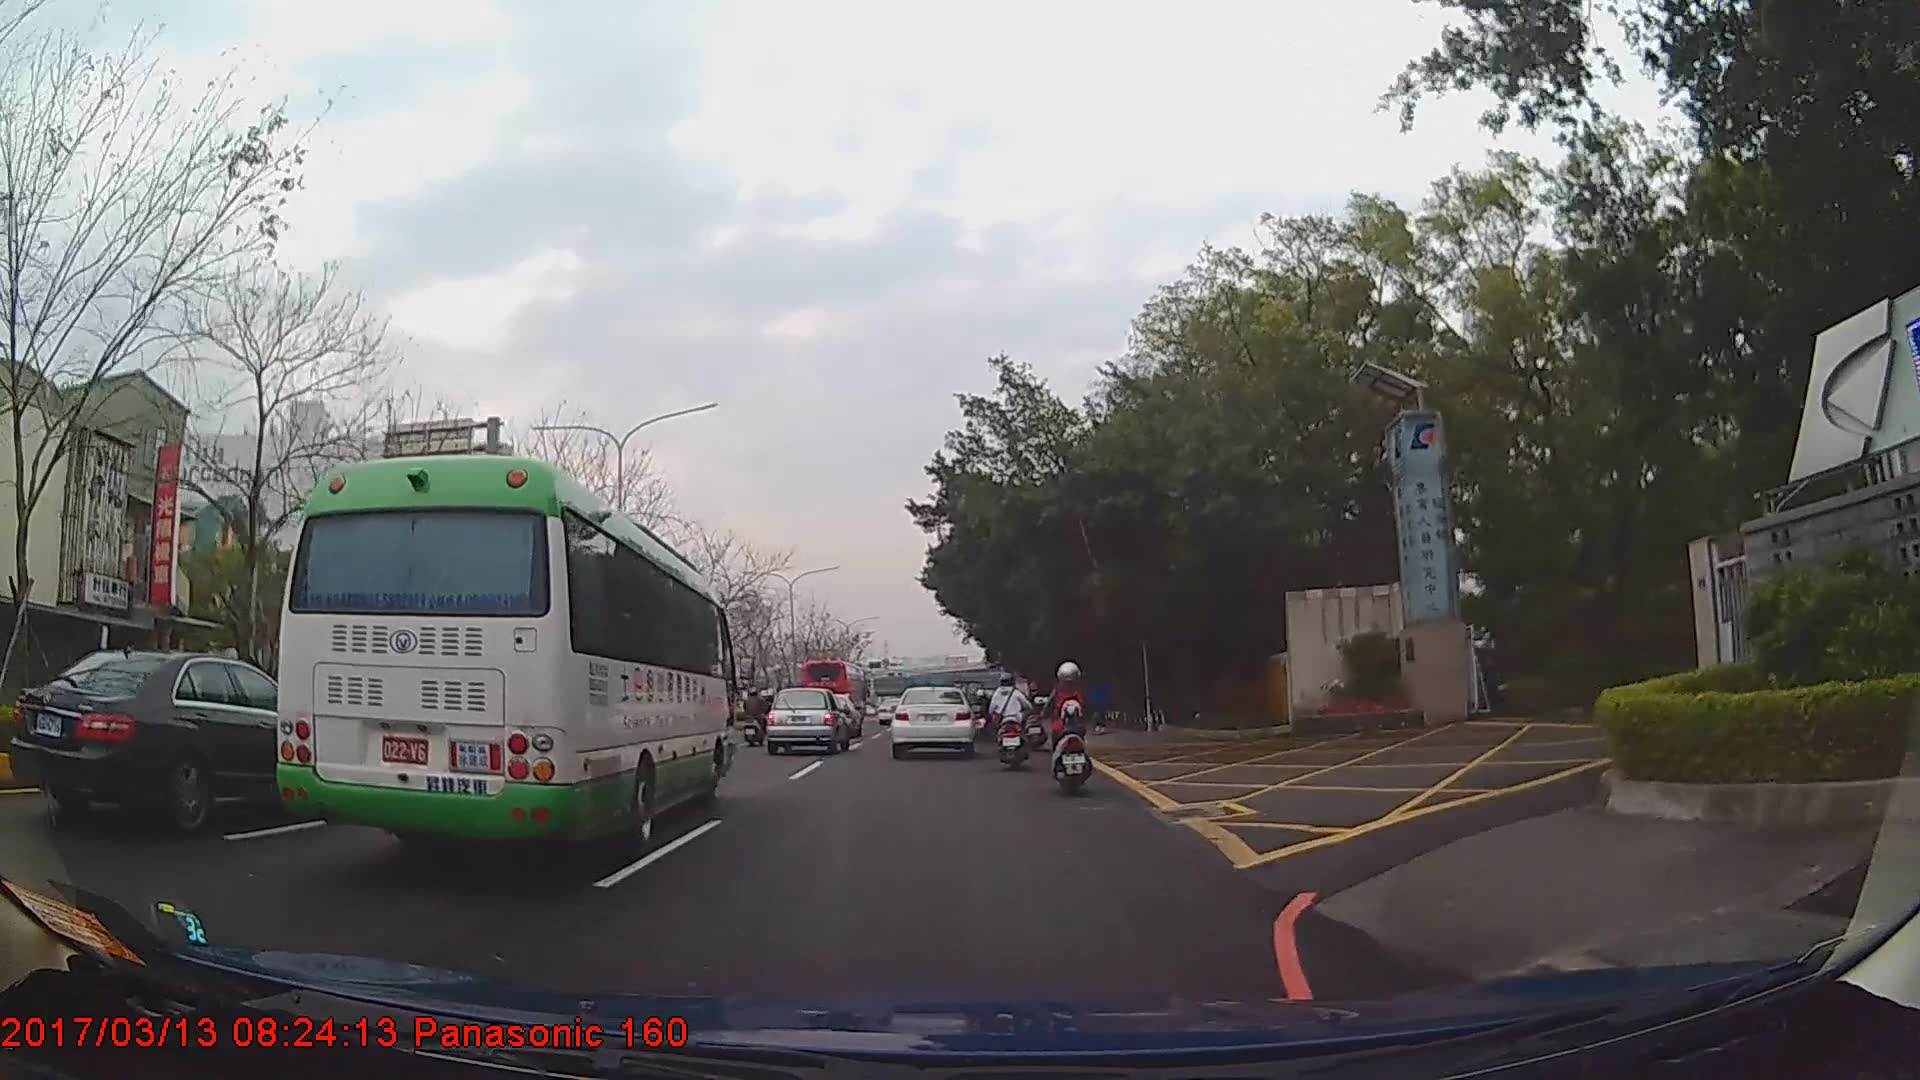pedestrian: (1086, 676, 1111, 737)
rider: (1046, 665, 1092, 802), (988, 675, 1032, 773), (1022, 684, 1046, 752), (744, 686, 768, 738)
vehicle: (269, 454, 735, 858), (11, 650, 353, 836), (888, 684, 975, 759), (762, 685, 850, 754), (799, 660, 866, 725)
